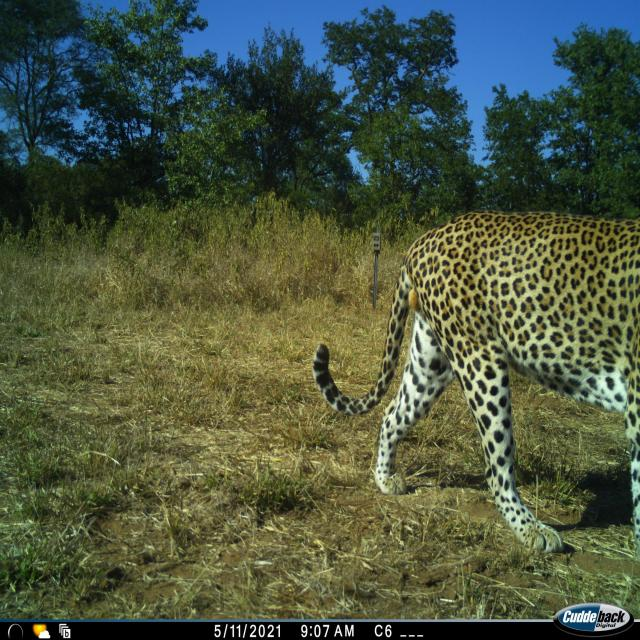Leopard: (316, 196, 638, 556)
